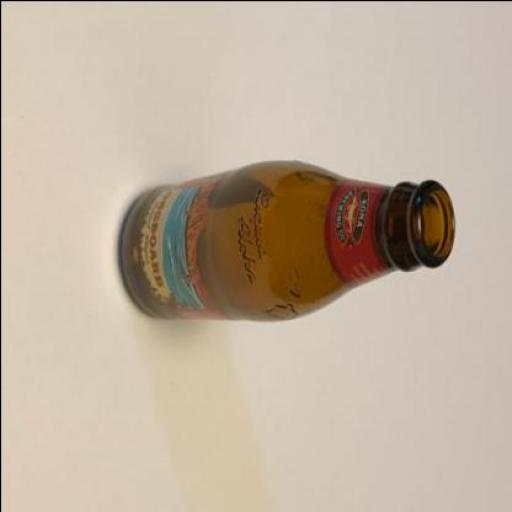glass: (120, 161, 456, 324)
